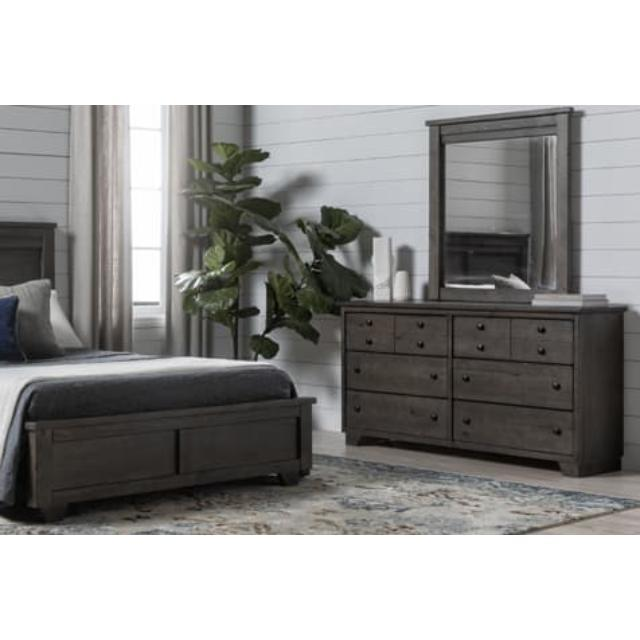bed: (0, 220, 311, 525)
dresser: (341, 302, 629, 479)
